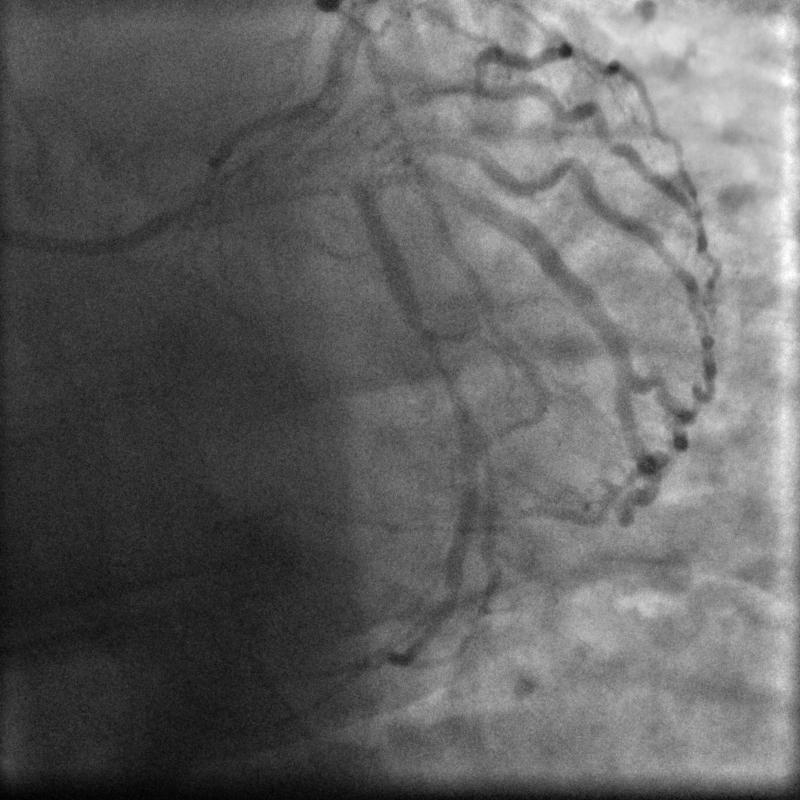Stenosis: (424, 335, 472, 424)
